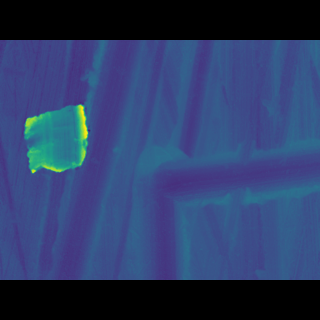Loch: (142, 69, 219, 250), (142, 141, 320, 196), (20, 109, 96, 172)
